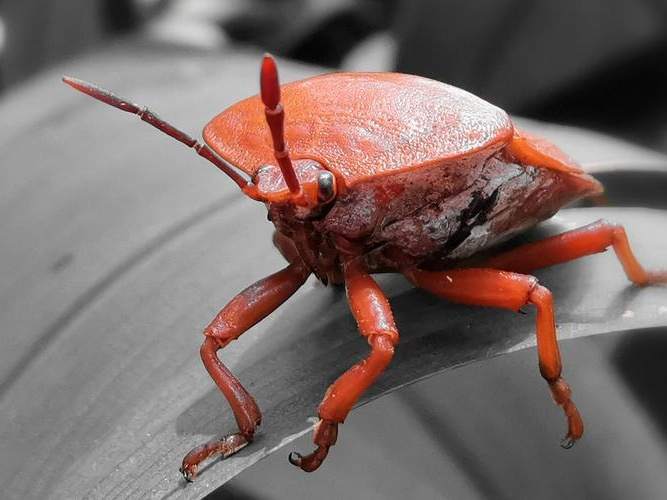Stink_Bug: (201, 58, 575, 397)
